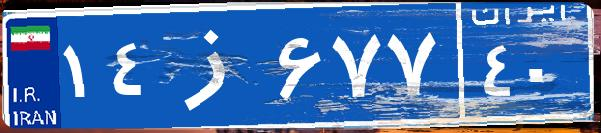0: (525, 38, 570, 115)
1: (57, 26, 110, 107)
4: (475, 38, 525, 113), (110, 28, 158, 105)
6: (273, 28, 330, 110)
7: (385, 28, 445, 110), (330, 28, 385, 110)
ز: (158, 15, 273, 115)
